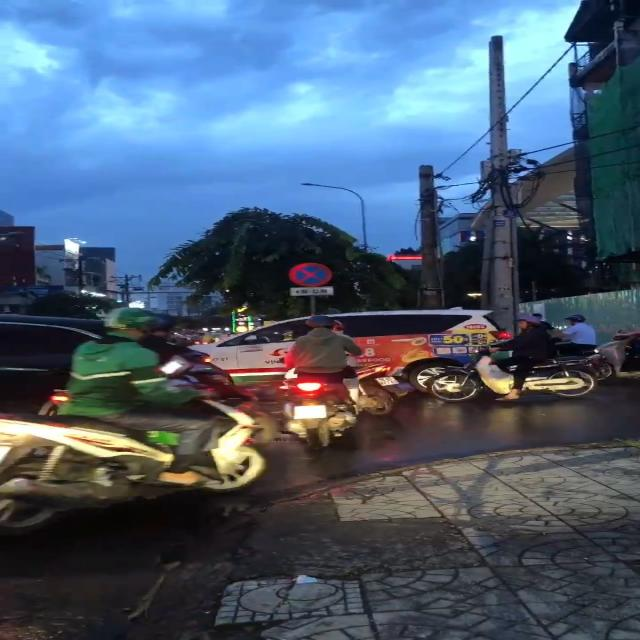Bien bao cam dung xe va do xe: (284, 260, 335, 287)
